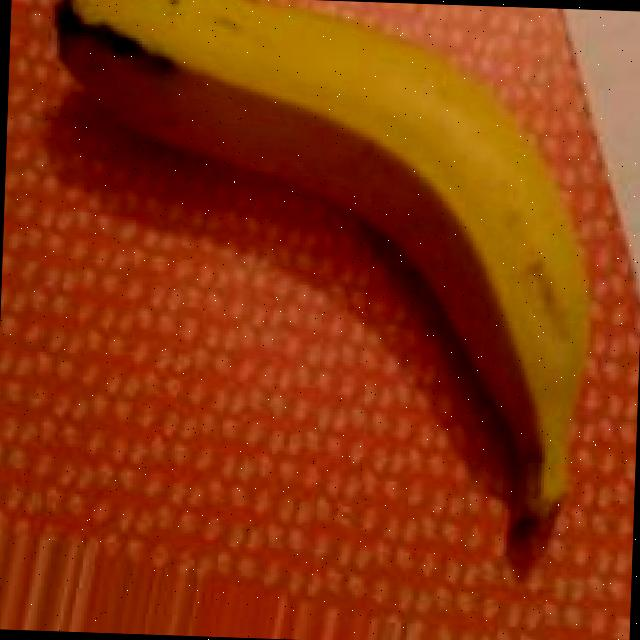banana: (6, 0, 630, 556)
